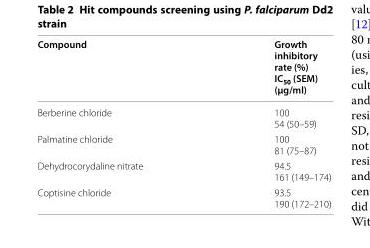table: (36, 37, 330, 209)
table column: (36, 37, 207, 209), (207, 37, 330, 209)
table column header: (36, 37, 330, 100)
table row: (36, 37, 330, 100), (36, 100, 330, 130), (36, 130, 330, 157), (36, 157, 330, 184), (36, 184, 330, 209)
